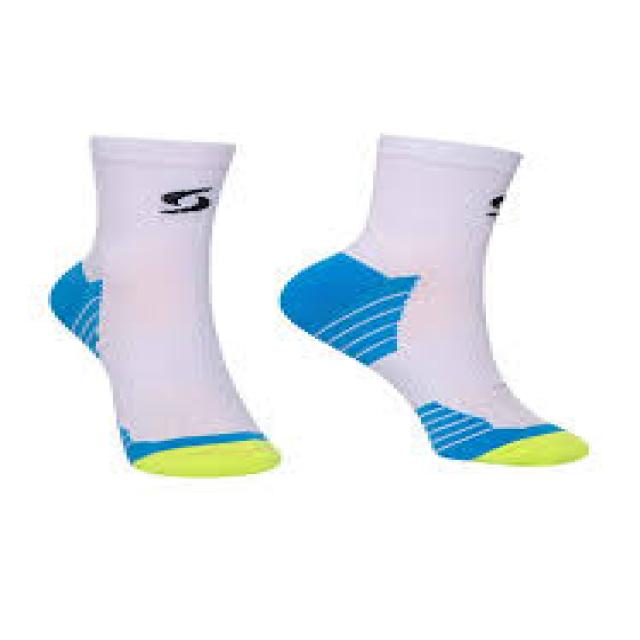sock: (277, 130, 589, 467), (44, 133, 280, 476)
